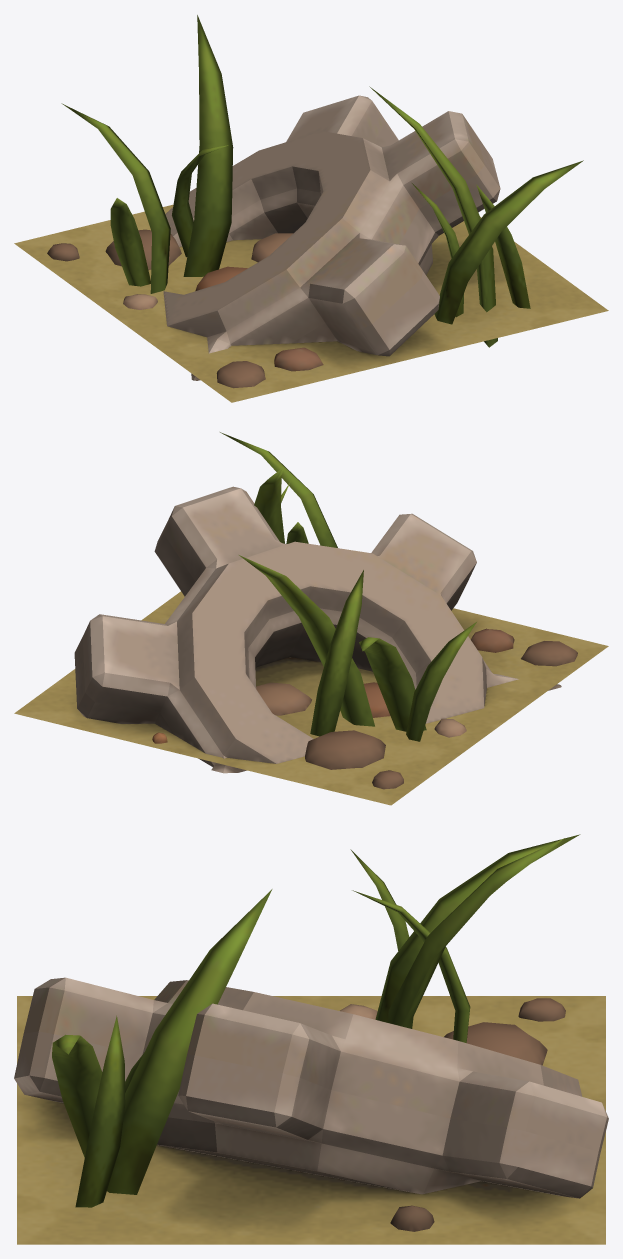
Rendered from =-Rouage.FBX.
3 renders of one model, top to bottom at view 1: azimuth 30°, elevation 25°; view 2: azimuth 150°, elevation 25°; view 3: azimuth 270°, elevation 25°, orthographic. The views are drawn at different scales.
Parts seen in each view (by area): view 1: Rouage; view 2: Rouage; view 3: Rouage.
Part boxes in pixels (x1,y1,x2,y2): Rouage: [14, 15, 608, 402]; Rouage: [14, 432, 608, 805]; Rouage: [14, 834, 608, 1244].
Bounding box in the file's own units: 2 × 1.18 × 2.02.
